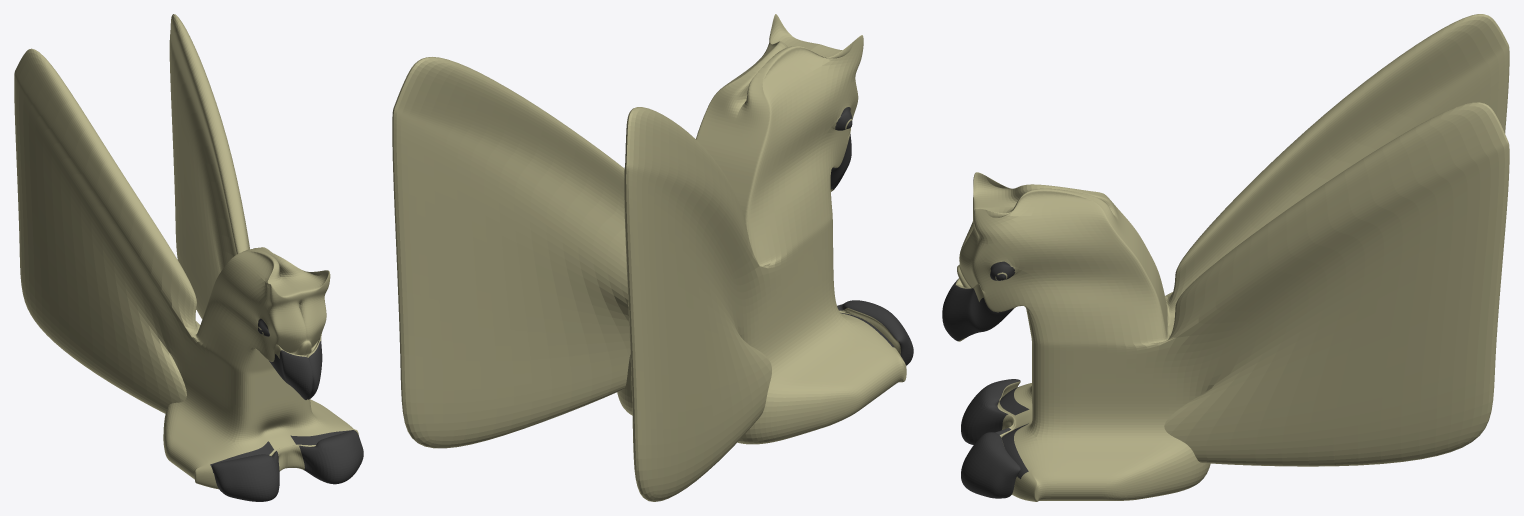
File: Phenix.fbx
3 views of the same model, side by side, from view 1: azimuth 30°, elevation 25°; view 2: azimuth 150°, elevation 25°; view 3: azimuth 270°, elevation 25° (orthographic). The views are drawn at different scales.
Parts seen in each view (by area): view 1: Cube; view 2: Cube; view 3: Cube.
Part boxes in pixels (bbox=[...]): Cube: bbox=[14, 14, 363, 501]; Cube: bbox=[392, 14, 913, 501]; Cube: bbox=[942, 14, 1509, 501].
Size of the model in its own units: 375 by 693 by 878.
